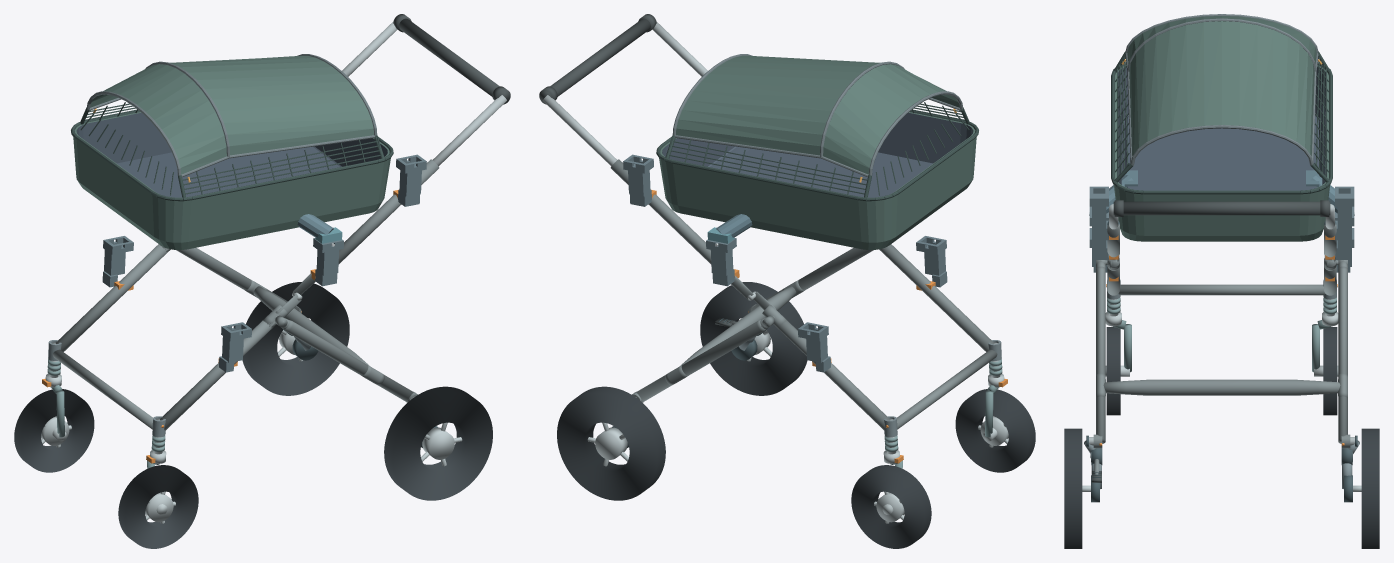
The model's file is S04_w650_state1_wheel_M.glb.
3 renders of one model, left to right at view 1: azimuth 30°, elevation 25°; view 2: azimuth 150°, elevation 25°; view 3: azimuth 270°, elevation 25°, orthographic. The views are drawn at different scales.
Visible parts, largest first — view 1: S04_Cabin, RL_tire.008, RR_tire.008, FL_tire.008, FR_tire.008, main_lower_1.009, round_handle.008, V46_rear_leg_-1.009, main_lower_-1.009, front_fixed_round_tube.008, main_upper_-1.009, Universal_Cabin_Receiver_H_-1 (+9 smaller); view 2: S04_Cabin, RR_tire.008, RL_tire.008, FR_tire.008, FL_tire.008, main_lower_-1.009, round_handle.008, V46_rear_leg_1.009, main_lower_1.009, front_fixed_round_tube.008, main_upper_1.009, Universal_Cabin_Receiver_H_1 (+9 smaller); view 3: S04_Cabin, V46_rearbar.009, round_handle.008, front_fixed_round_tube.008, RL_tire.008, RR_tire.008, V46_rear_leg_1.009, V46_rear_leg_-1.009, FL_tire.008, FR_tire.008, Universal_Cabin_Receiver_H_1, Universal_Cabin_Receiver_H_-1 (+3 smaller).
Part boxes in pixels (<box>): S04_Cabin: <box>71,54,393,249</box>; RL_tire.008: <box>384,386,492,500</box>; RR_tire.008: <box>242,282,349,395</box>; FL_tire.008: <box>118,465,198,548</box>; FR_tire.008: <box>14,389,94,472</box>; main_lower_1.009: <box>55,244,168,351</box>; round_handle.008: <box>399,18,509,102</box>; V46_rear_leg_-1.009: <box>284,320,413,402</box>; main_lower_-1.009: <box>160,320,275,430</box>; front_fixed_round_tube.008: <box>52,349,152,429</box>; main_upper_-1.009: <box>315,159,439,270</box>; Universal_Cabin_Receiver_H_-1: <box>396,154,426,206</box>; S04_Cabin: <box>656,54,978,249</box>; RR_tire.008: <box>557,386,665,500</box>; RL_tire.008: <box>700,282,807,395</box>; FR_tire.008: <box>851,465,931,548</box>; FL_tire.008: <box>955,389,1035,472</box>; main_lower_-1.009: <box>880,244,994,351</box>; round_handle.008: <box>540,18,650,102</box>; V46_rear_leg_1.009: <box>636,320,765,402</box>; main_lower_1.009: <box>774,320,889,430</box>; front_fixed_round_tube.008: <box>897,349,997,429</box>; main_upper_1.009: <box>610,159,734,270</box>; Universal_Cabin_Receiver_H_1: <box>623,154,653,206</box>; S04_Cabin: <box>1111,14,1332,241</box>; V46_rearbar.009: <box>1103,379,1340,395</box>; round_handle.008: <box>1113,201,1330,215</box>; front_fixed_round_tube.008: <box>1118,284,1325,295</box>; RL_tire.008: <box>1064,428,1082,548</box>; RR_tire.008: <box>1361,428,1379,548</box>; V46_rear_leg_1.009: <box>1338,266,1347,443</box>; V46_rear_leg_-1.009: <box>1096,266,1105,443</box>; FL_tire.008: <box>1106,327,1120,415</box>; FR_tire.008: <box>1323,327,1337,415</box>; Universal_Cabin_Receiver_H_1: <box>1335,186,1354,240</box>; Universal_Cabin_Receiver_H_-1: <box>1089,186,1108,240</box>.
Size of the model in its own units: 1.16 by 1.19 by 0.7871.
